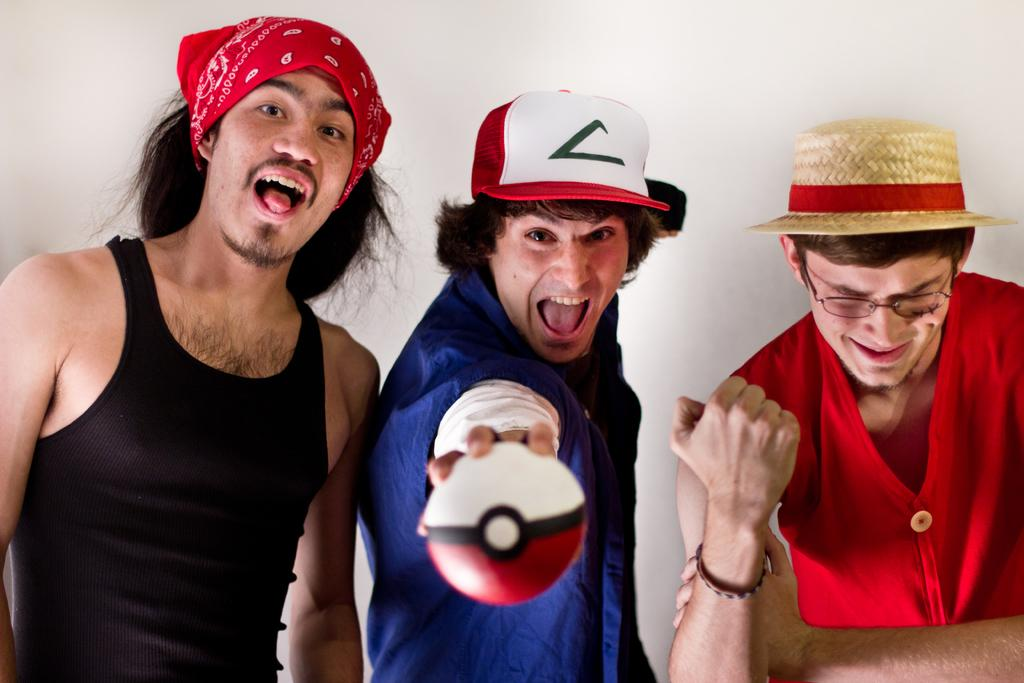Hat: (742, 116, 1017, 231), (466, 83, 668, 207)
